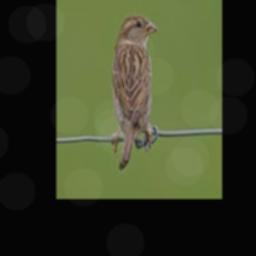Sparrow: (113, 13, 158, 169)
